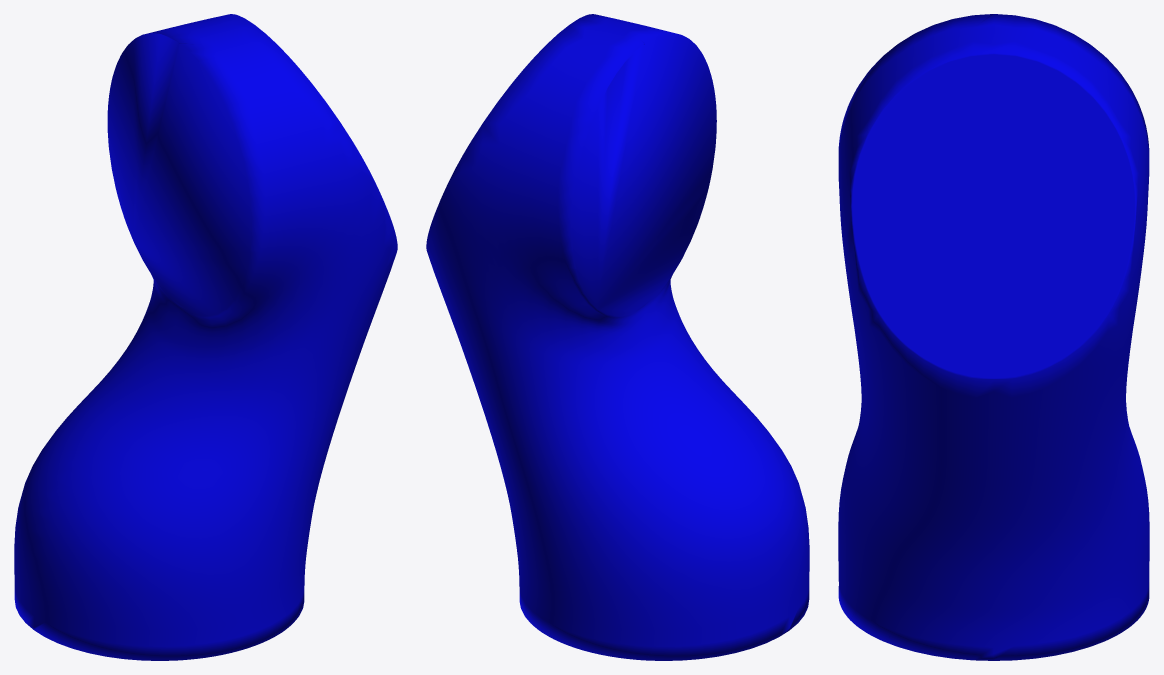
The picture shows the model from 3 angles, left to right: view 1: azimuth 30°, elevation 25°; view 2: azimuth 150°, elevation 25°; view 3: azimuth 270°, elevation 25°; orthographic projection. The views are drawn at different scales.
Visible parts, largest first — view 1: link1; view 2: link1; view 3: link1.
Boxes of the visible parts, bbox=[...] form: link1: bbox=[14, 14, 397, 660]; link1: bbox=[426, 14, 809, 660]; link1: bbox=[838, 14, 1149, 660].
Size of the model in its own units: 0.1578 by 0.1192 by 0.2502.
